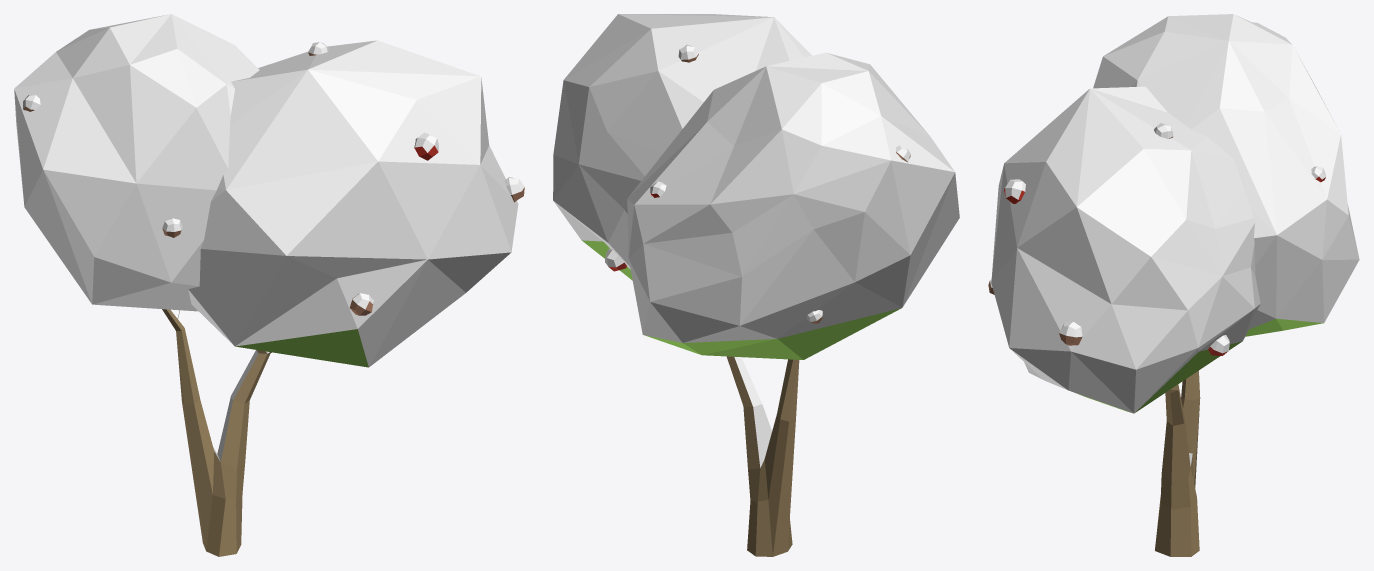
File: Apple_Tree_Apples_m_Snow_07.fbx
The picture shows the model from 3 angles, left to right: view 1: azimuth 30°, elevation 25°; view 2: azimuth 150°, elevation 25°; view 3: azimuth 270°, elevation 25°; orthographic projection. The views are drawn at different scales.
Parts seen in each view (by area): view 1: Apple_Tree_Apples_m_Snow_07; view 2: Apple_Tree_Apples_m_Snow_07; view 3: Apple_Tree_Apples_m_Snow_07.
Boxes of the visible parts, <box> form: Apple_Tree_Apples_m_Snow_07: <box>14,14,524,556</box>; Apple_Tree_Apples_m_Snow_07: <box>553,14,959,556</box>; Apple_Tree_Apples_m_Snow_07: <box>988,14,1359,556</box>.
Bounding box in the file's own units: 571 × 657 × 444.
